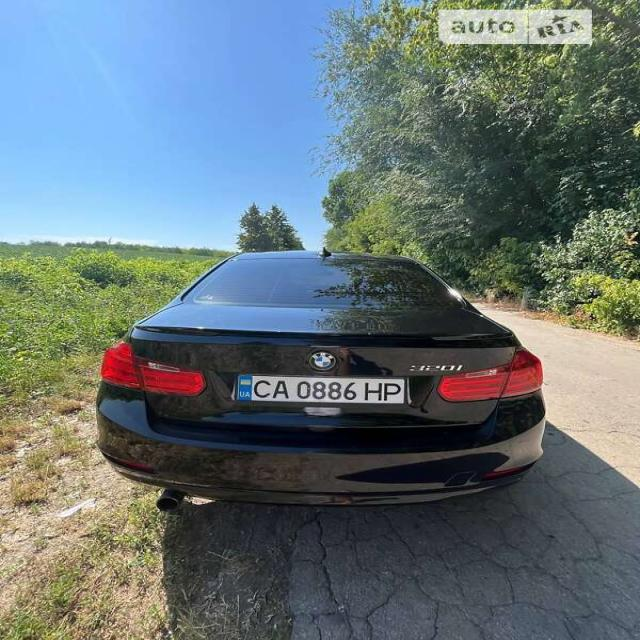plate: (234, 370, 420, 409)
